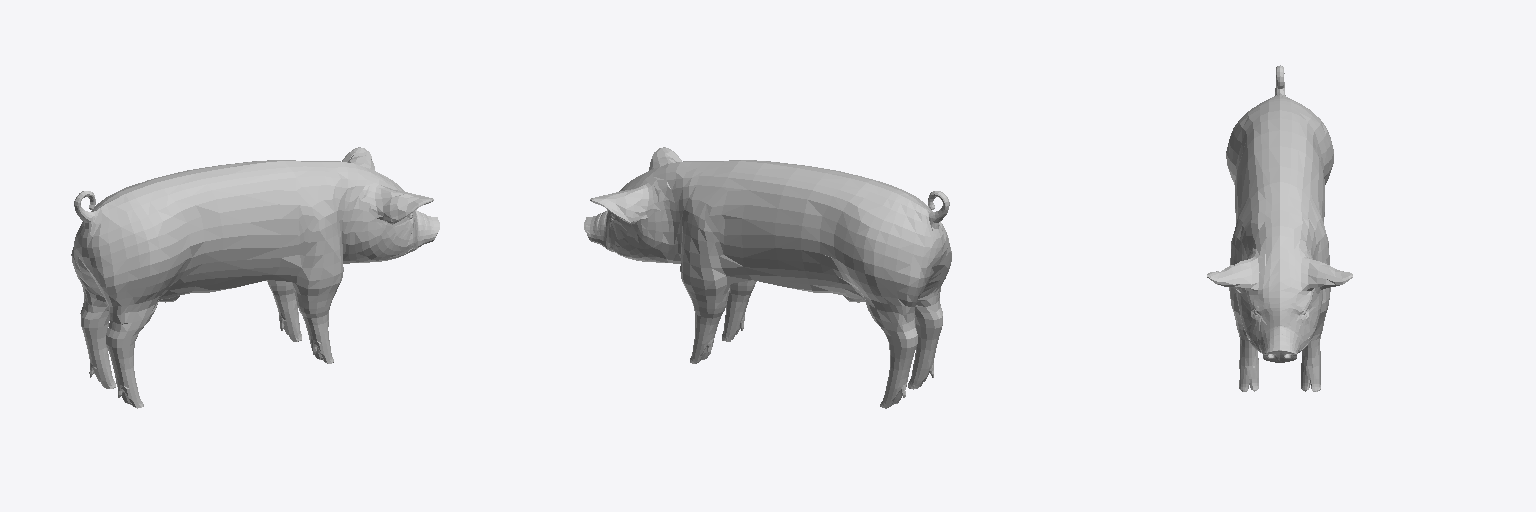
Rendered from pig.obj.
3 renders of one model, left to right at view 1: azimuth 30°, elevation 25°; view 2: azimuth 150°, elevation 25°; view 3: azimuth 270°, elevation 25°, orthographic.
Parts seen in each view (by area): view 1: skin, hoofs; view 2: skin, hoofs; view 3: skin.
Boxes of the visible parts, x1=… form: skin: x1=71, y1=147, x2=439, y2=400; hoofs: x1=89, y1=328, x2=333, y2=408; skin: x1=584, y1=147, x2=951, y2=400; hoofs: x1=690, y1=328, x2=933, y2=408; skin: x1=1207, y1=65, x2=1352, y2=379.
Bounding box in the file's own units: 5.22 × 2.93 × 1.83.